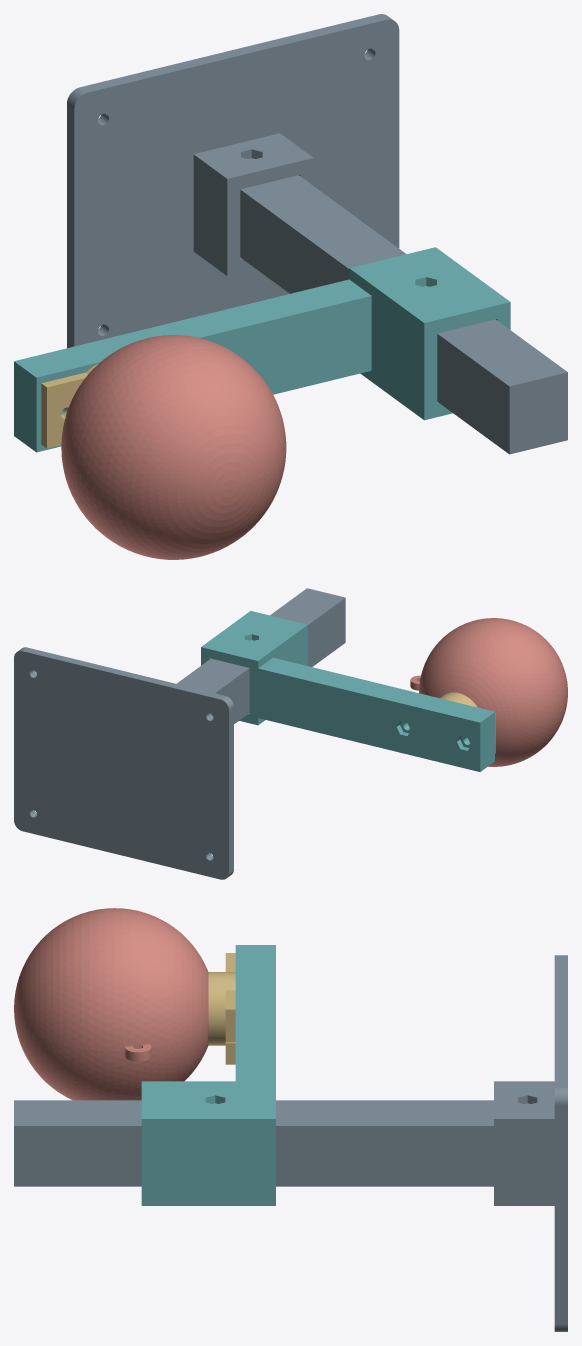
File: 总装135mm_仅预览.glb
3 renders of one model, top to bottom at view 1: azimuth 30°, elevation 25°; view 2: azimuth 150°, elevation 25°; view 3: azimuth 270°, elevation 25°, orthographic. The views are drawn at different scales.
Parts seen in each view (by area): view 1: 01_场地固定底座, 07_球上半壳, 03_套筒悬臂, 02_三档立柱, 06_球下半壳_带磁铁槽, 04_磁铁托座_D4x2; view 2: 01_场地固定底座, 03_套筒悬臂, 06_球下半壳_带磁铁槽, 02_三档立柱, 07_球上半壳; view 3: 02_三档立柱, 03_套筒悬臂, 07_球上半壳, 06_球下半壳_带磁铁槽, 01_场地固定底座, 04_磁铁托座_D4x2.
Boxes of the visible parts, box(x1,y1,x2,y2) form: 01_场地固定底座: box(67, 14, 399, 348); 07_球上半壳: box(76, 342, 286, 559); 03_套筒悬臂: box(14, 247, 510, 452); 02_三档立柱: box(240, 175, 567, 454); 06_球下半壳_带磁铁槽: box(61, 335, 232, 533); 04_磁铁托座_D4x2: box(41, 363, 98, 448); 01_场地固定底座: box(14, 647, 233, 879); 03_套筒悬臂: box(201, 611, 494, 771); 06_球下半壳_带磁铁槽: box(410, 623, 557, 766); 02_三档立柱: box(176, 588, 345, 723); 07_球上半壳: box(455, 618, 567, 748); 02_三档立柱: box(14, 1100, 493, 1186); 03_套筒悬臂: box(141, 945, 275, 1205); 07_球上半壳: box(14, 908, 114, 1100); 06_球下半壳_带磁铁槽: box(114, 908, 208, 1100); 01_场地固定底座: box(494, 955, 567, 1331); 04_磁铁托座_D4x2: box(208, 953, 235, 1064).
Size of the model in its own units: 175 by 80 by 165.
